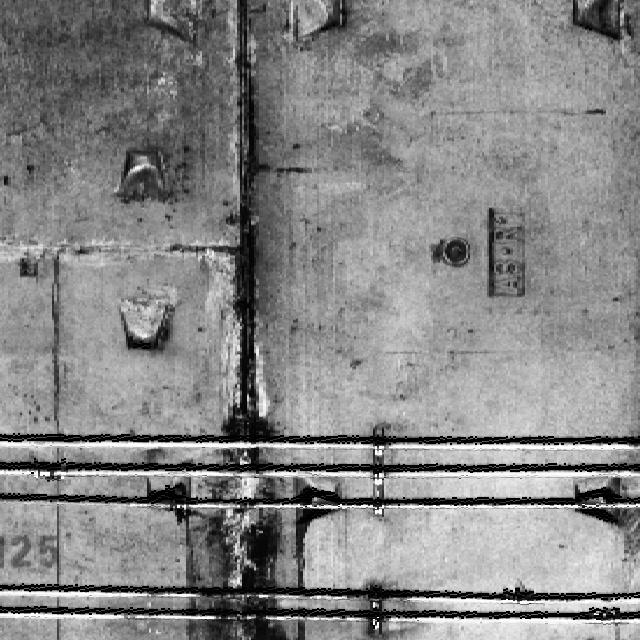leakage: (188, 10, 299, 639)
